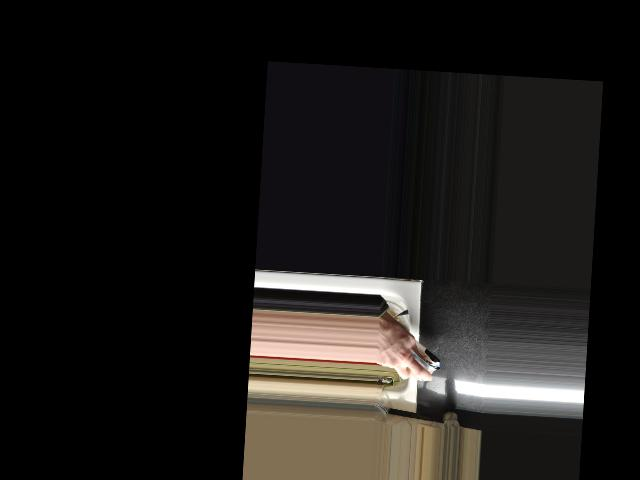cheese: (378, 329, 444, 379)
